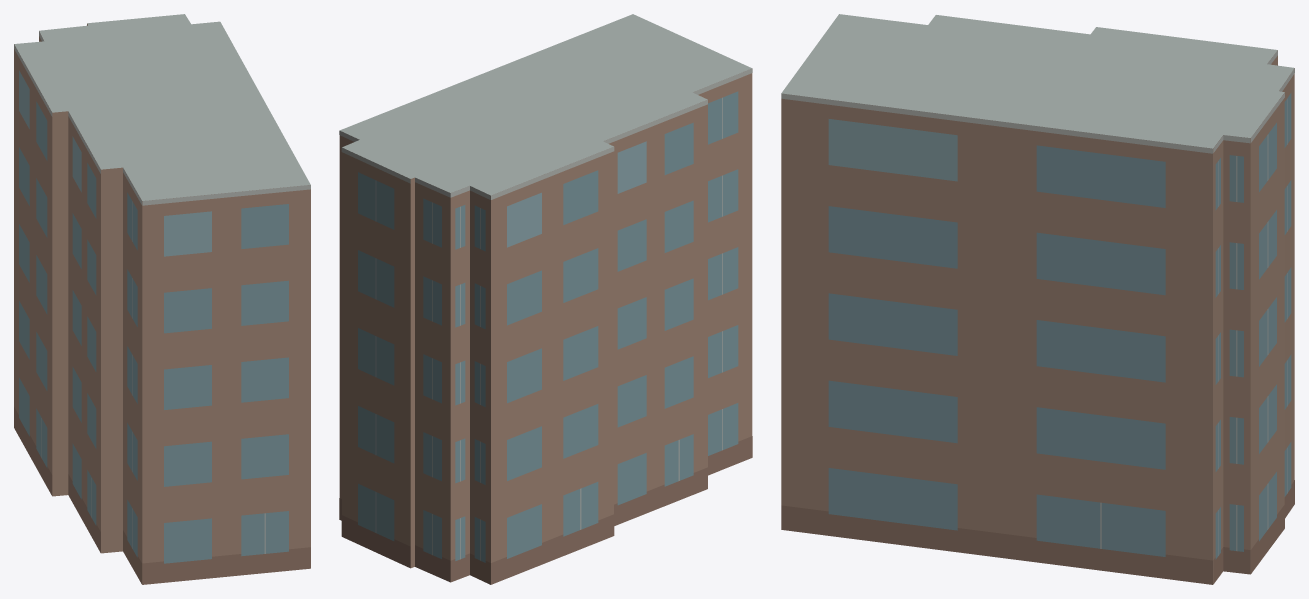
The model's file is survey-upis-33043069.glb.
3 views of the same model, side by side, from view 1: azimuth 30°, elevation 25°; view 2: azimuth 150°, elevation 25°; view 3: azimuth 270°, elevation 25° (orthographic). The views are drawn at different scales.
Visible parts, largest first — view 1: survey-upis-33043069.tmp; view 2: survey-upis-33043069.tmp; view 3: survey-upis-33043069.tmp.
Boxes of the visible parts, x1=… form: survey-upis-33043069.tmp: x1=14, y1=14, x2=310, y2=584; survey-upis-33043069.tmp: x1=339, y1=14, x2=752, y2=584; survey-upis-33043069.tmp: x1=781, y1=14, x2=1294, y2=584.
Size of the model in its own units: 13.47 by 20.35 by 21.72.
